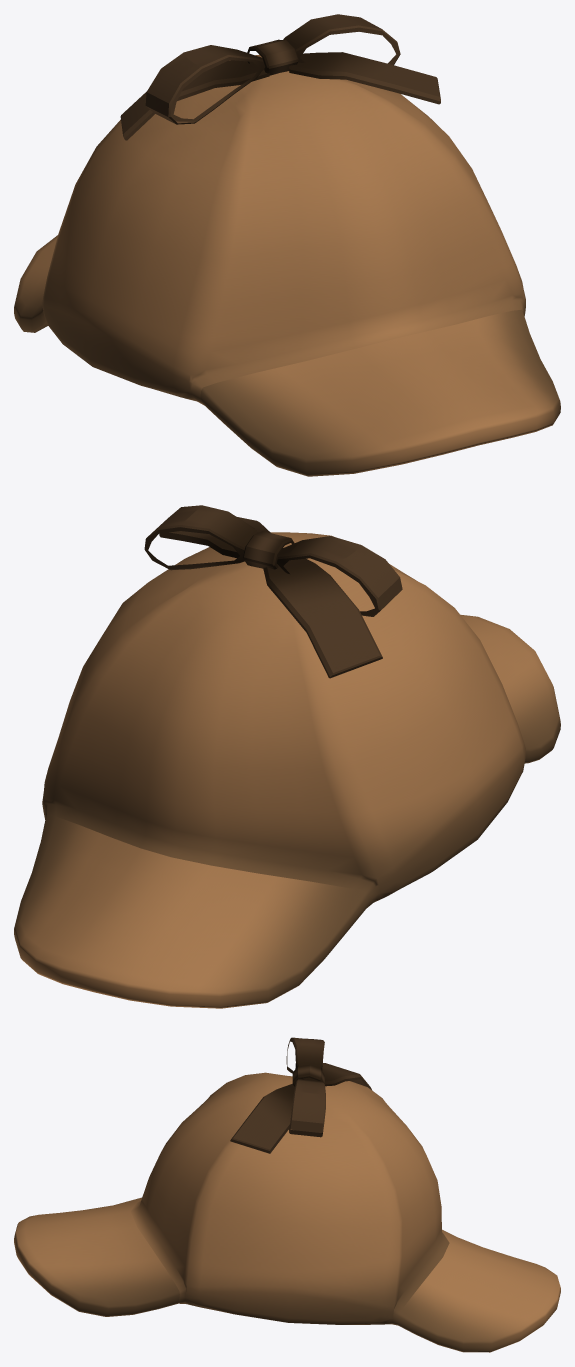
The model's file is HAT_detective.gltf.
3 renders of one model, top to bottom at view 1: azimuth 30°, elevation 25°; view 2: azimuth 150°, elevation 25°; view 3: azimuth 270°, elevation 25°, orthographic. The views are drawn at different scales.
Parts seen in each view (by area): view 1: detective_hat; view 2: detective_hat; view 3: detective_hat.
Part boxes in pixels (box(x1,y1,x2,y2)): detective_hat: box(14, 14, 560, 476); detective_hat: box(14, 505, 560, 1008); detective_hat: box(14, 1037, 560, 1352).
Bounding box in the file's own units: 0.6916 × 0.5919 × 1.19.
1 material, 1 textured.
